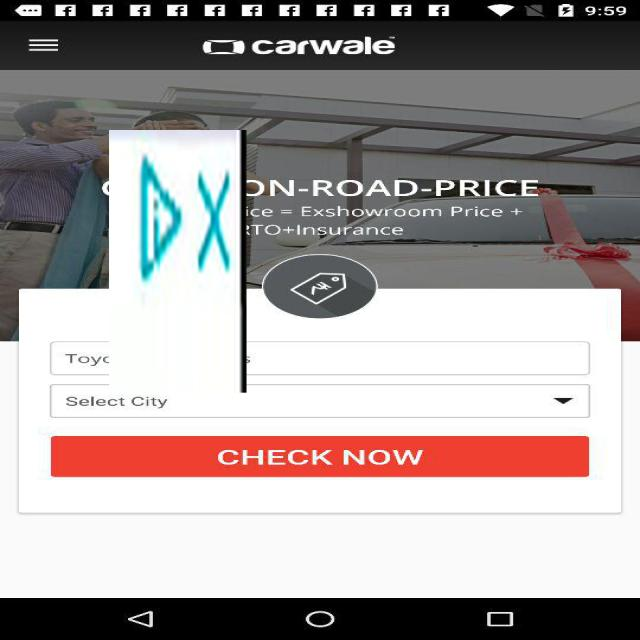sneaking: (109, 130, 247, 393)
